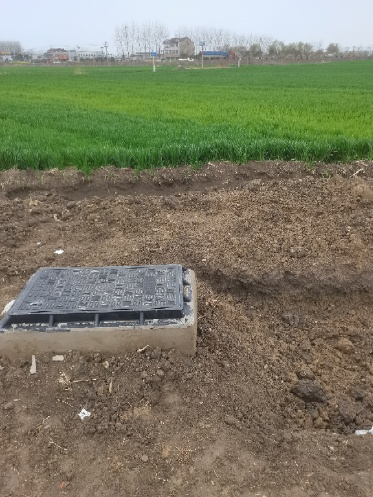well: (0, 263, 191, 336)
